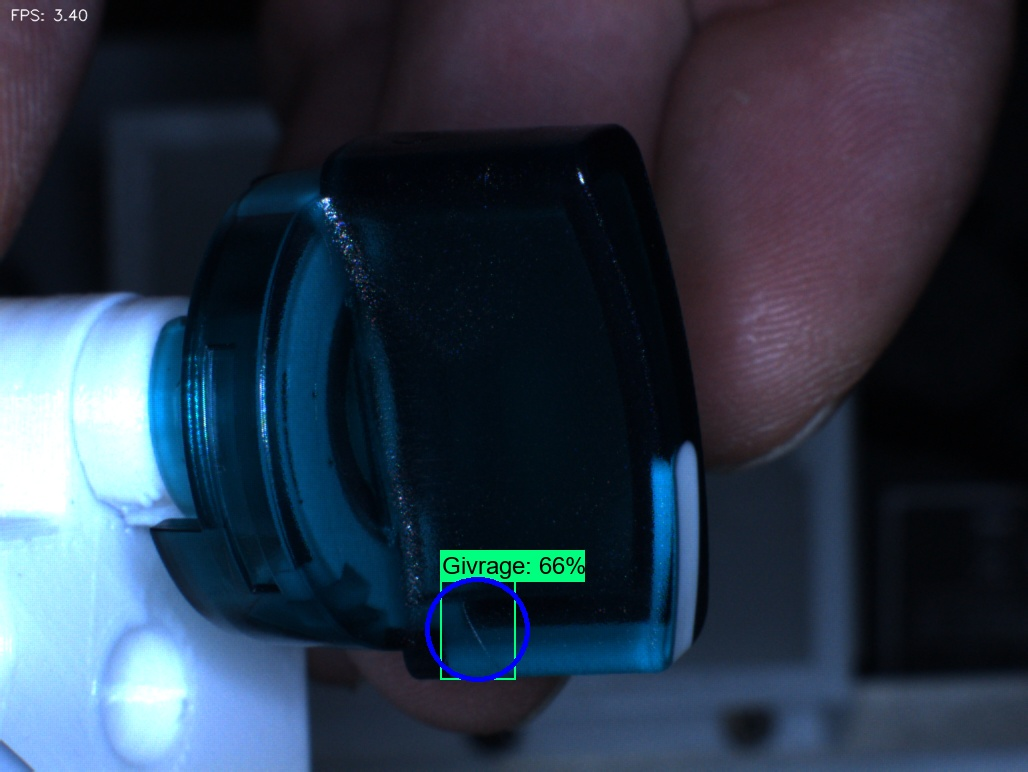PointNoir: (281, 361, 348, 430)
